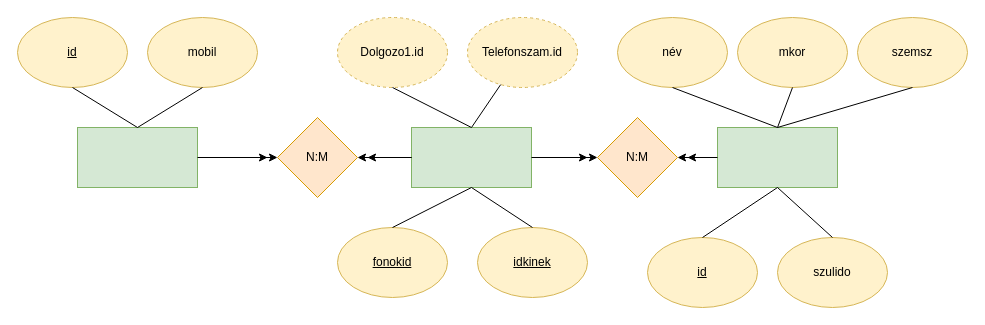
Image size: 985x325. Some labels were removed from this diagram. Here are the shapes that lost their labels. From the top down, the centre of each, then its label:
(137,157): Telefonszám
(471,157): Főnök
(777,157): Dolgozó1
